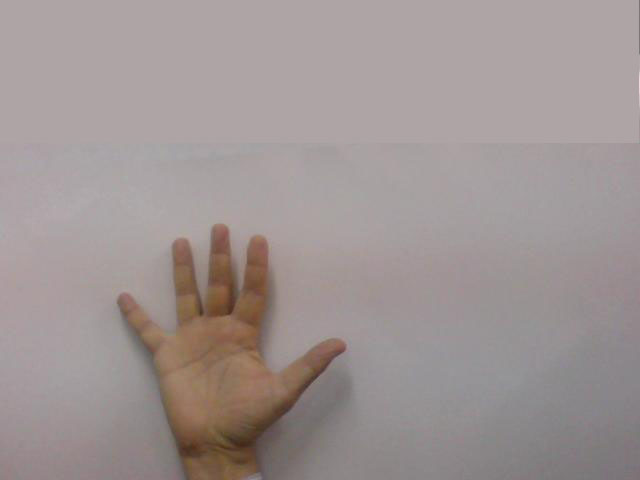hand: (108, 214, 355, 444)
